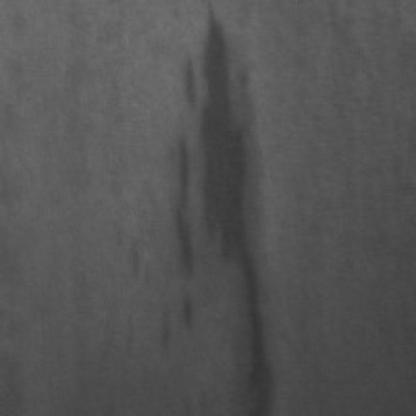inclusion: (158, 4, 266, 385)
